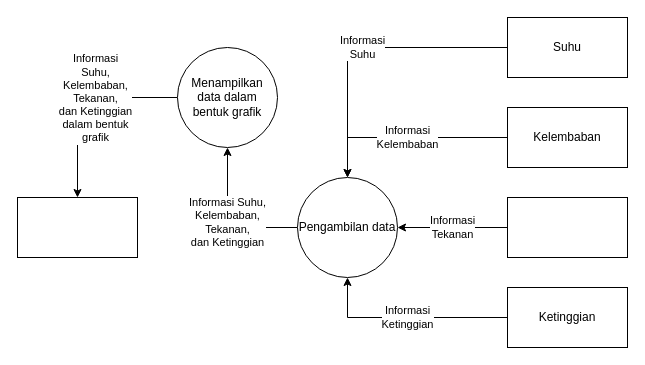
Some shapes in this 645 by 365 pixel diagram are drawn without their labels. Each missing label, with the centre of its shape:
"Admin" goes at [77,227].
"Tekanan" goes at [567,227].
